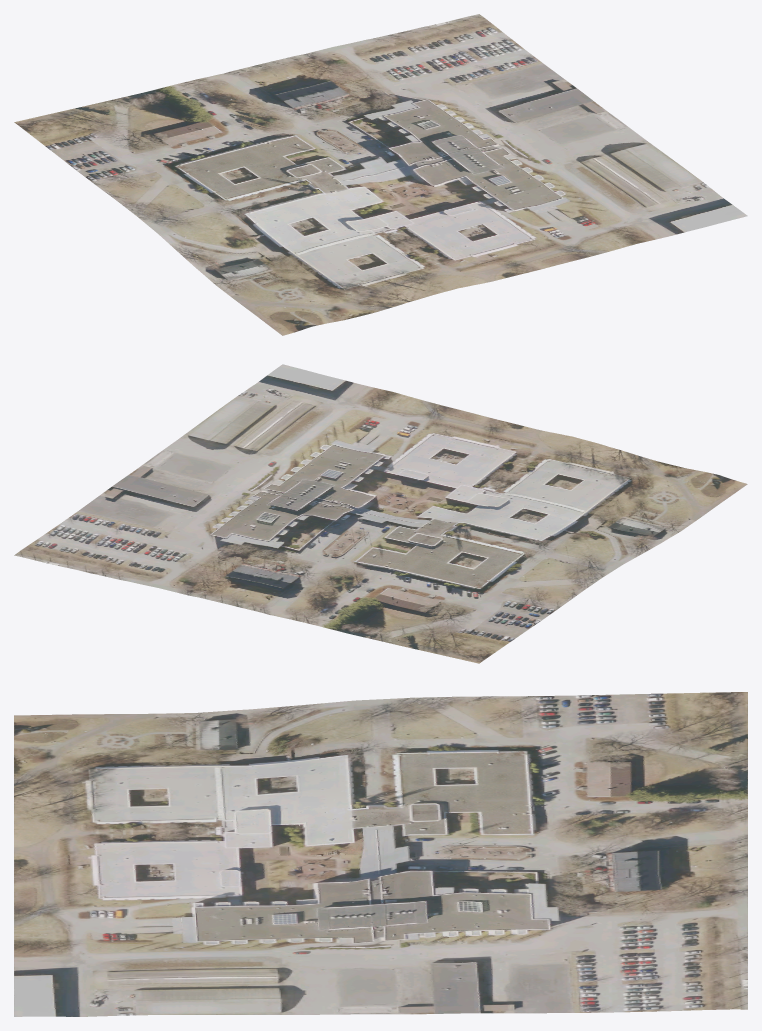
The model's file is CM_Terrain_24486773_6819180.fbx.
The picture shows the model from 3 angles, top to bottom: view 1: azimuth 30°, elevation 25°; view 2: azimuth 150°, elevation 25°; view 3: azimuth 270°, elevation 25°; orthographic projection. The views are drawn at different scales.
Visible parts, largest first — view 1: CM_Terrain_24486773_6819180_LOD0; view 2: CM_Terrain_24486773_6819180_LOD0; view 3: CM_Terrain_24486773_6819180_LOD0.
Part boxes in pixels (left/top/right/bottom): CM_Terrain_24486773_6819180_LOD0: left=14, top=14, right=747, bottom=335; CM_Terrain_24486773_6819180_LOD0: left=14, top=364, right=747, bottom=663; CM_Terrain_24486773_6819180_LOD0: left=14, top=692, right=747, bottom=1016.
Size of what is drawn, in the model's own units: 205 by 7.17 by 205.
